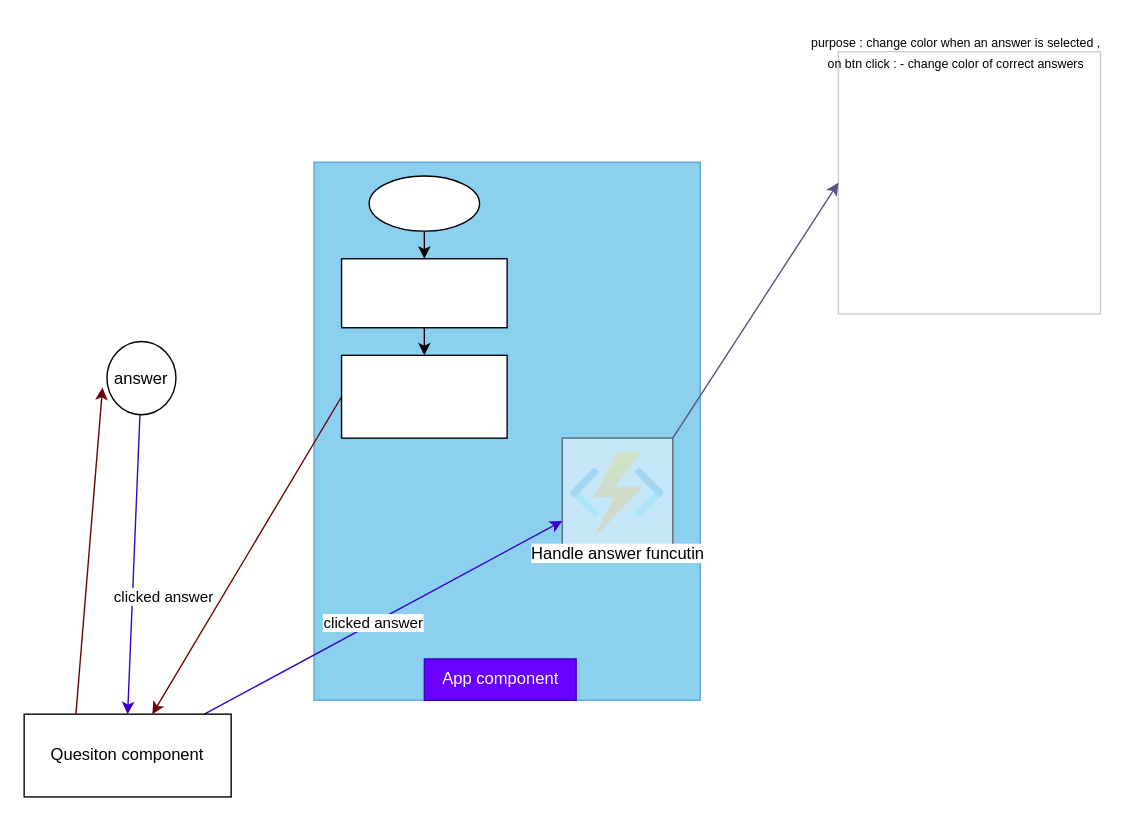
This 1139x821 diagram has some shape labels left out. Each missing label, with the box of its shape:
create questions Array: (340, 354, 507, 438)
FETCH data: (340, 257, 507, 328)
start: (368, 175, 480, 231)
